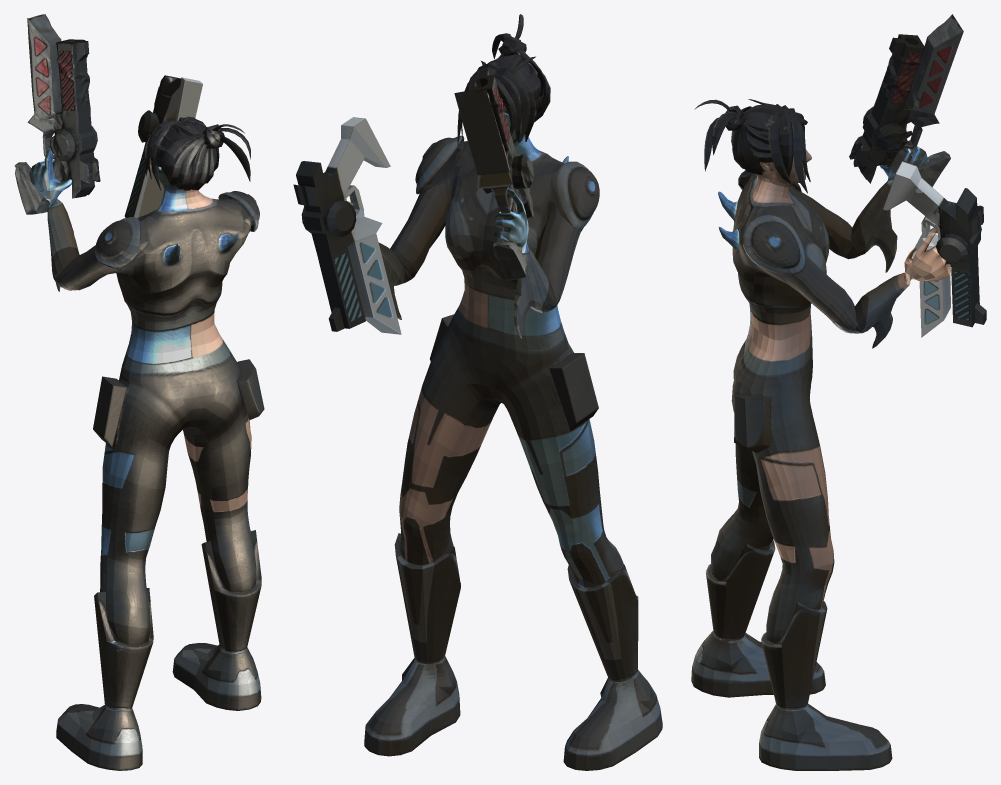
3 views of the same model, side by side, from view 1: azimuth 30°, elevation 25°; view 2: azimuth 150°, elevation 25°; view 3: azimuth 270°, elevation 25° (orthographic). The views are drawn at different scales.
Visible parts, largest first — view 1: Dex_LOW_Plane.001; view 2: Dex_LOW_Plane.001; view 3: Dex_LOW_Plane.001.
Boxes of the visible parts, x1=… form: Dex_LOW_Plane.001: x1=14, y1=14, x2=264, y2=770; Dex_LOW_Plane.001: x1=293, y1=14, x2=662, y2=770; Dex_LOW_Plane.001: x1=691, y1=14, x2=986, y2=770.
Bounding box in the file's own units: 1.72 × 5.07 × 1.99.
